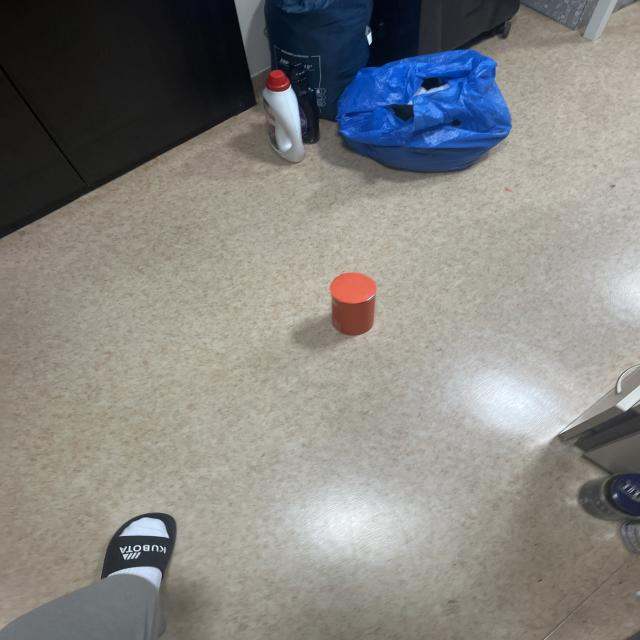przeszkoda: (330, 272, 377, 335)
